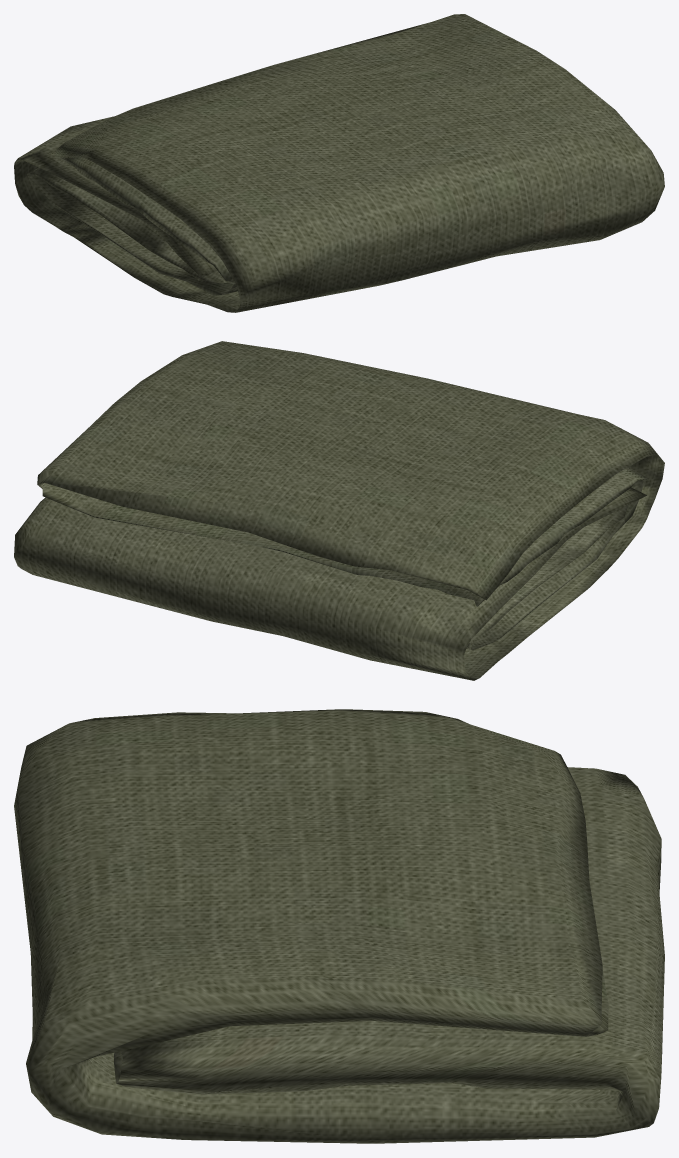
Rendered from Towel 3.FBX.
The picture shows the model from 3 angles, top to bottom: view 1: azimuth 30°, elevation 25°; view 2: azimuth 150°, elevation 25°; view 3: azimuth 270°, elevation 25°; orthographic projection. The views are drawn at different scales.
Size of the model in its own units: 29.35 by 7.2 by 25.05.
1 material, 1 textured.
